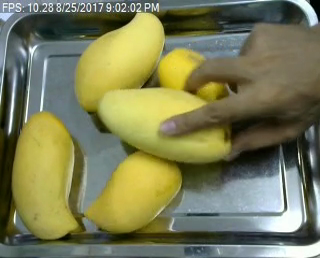Mango: (97, 84, 236, 167), (70, 13, 166, 115), (10, 108, 77, 238), (83, 148, 185, 233), (152, 43, 234, 107)
